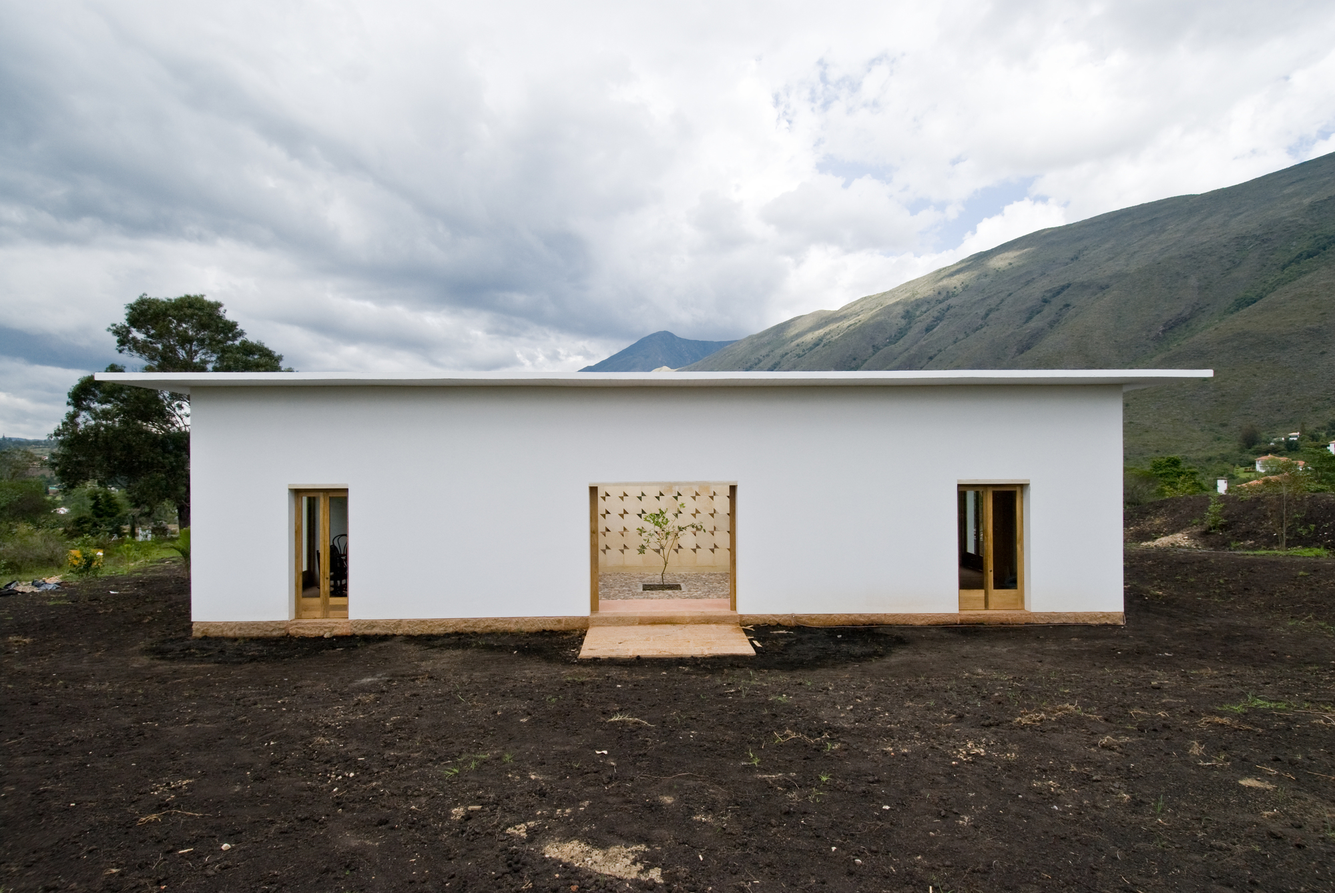House: (71, 339, 1216, 648)
